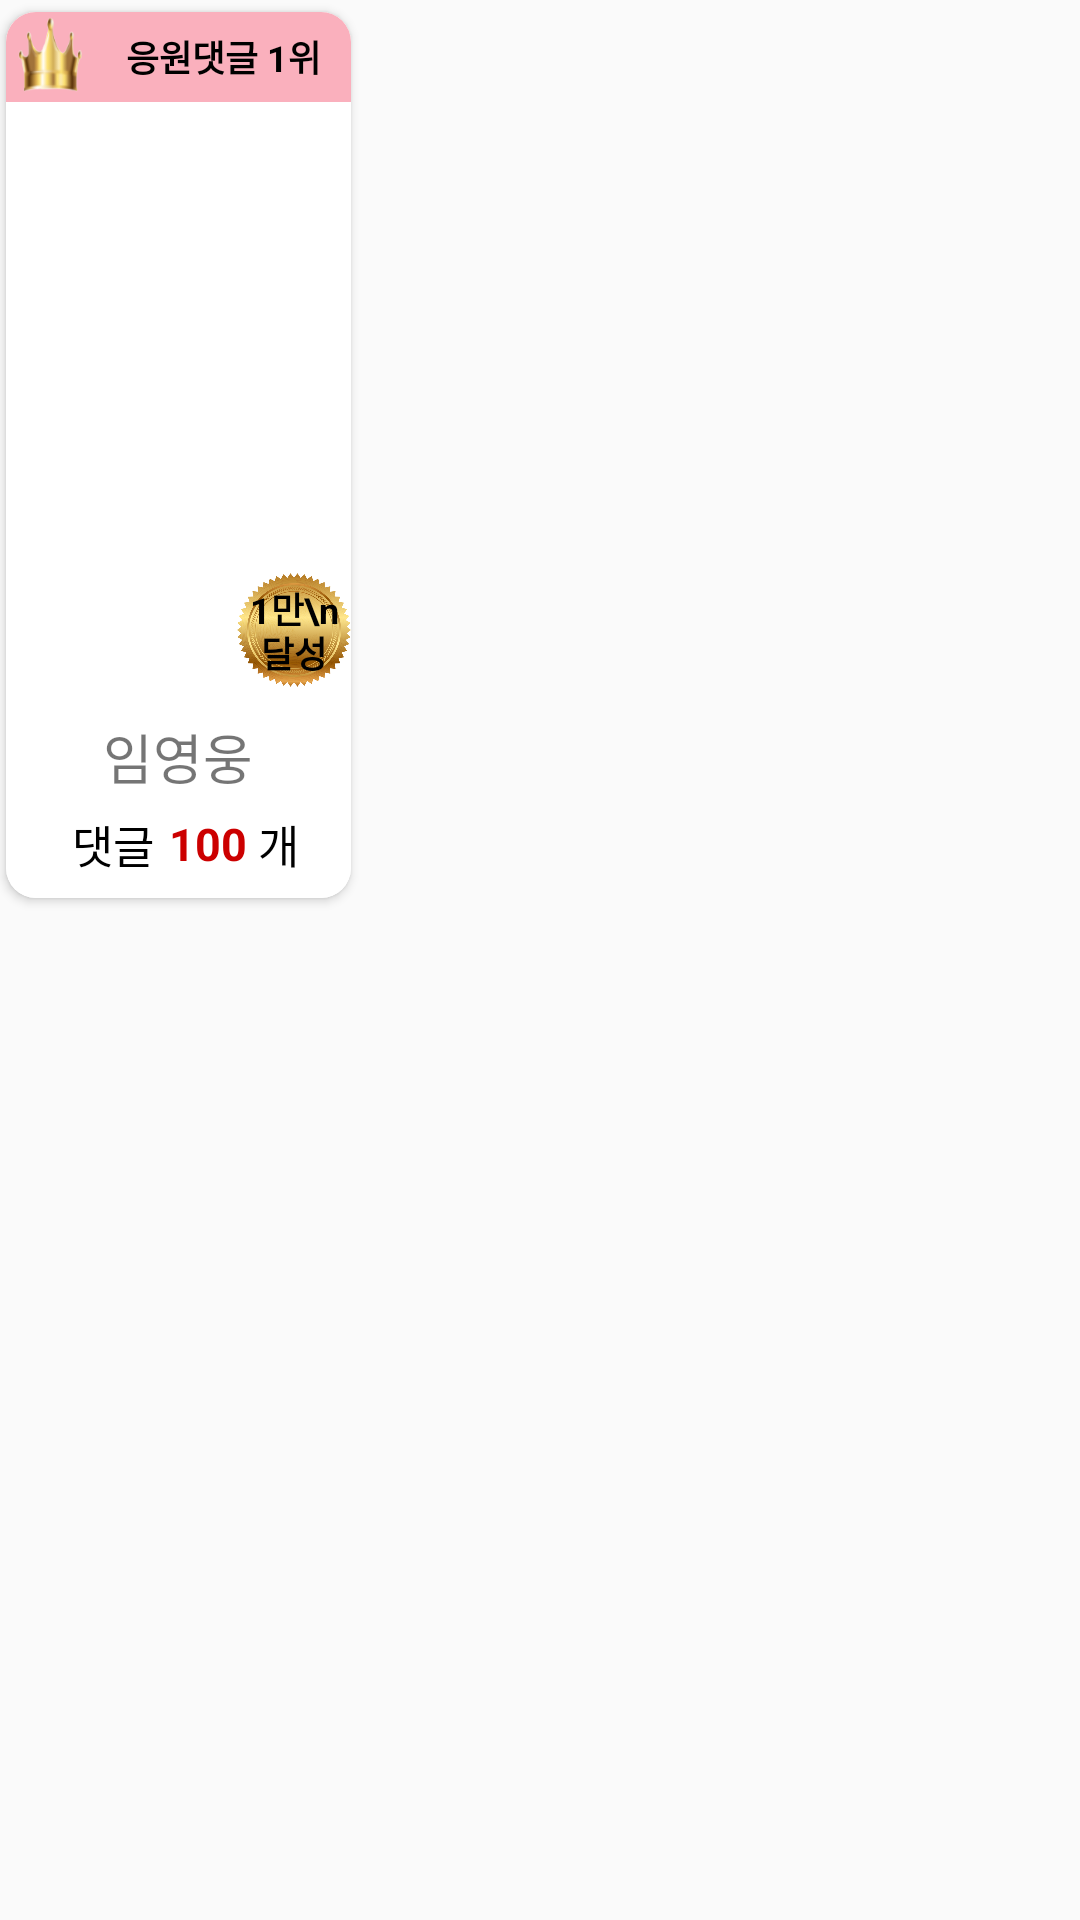

Named icons in this screenshot (1080px x 1920px) and their centers, [x,y]:
goldcrown: [51,57]
goldmedal: [294,630]
